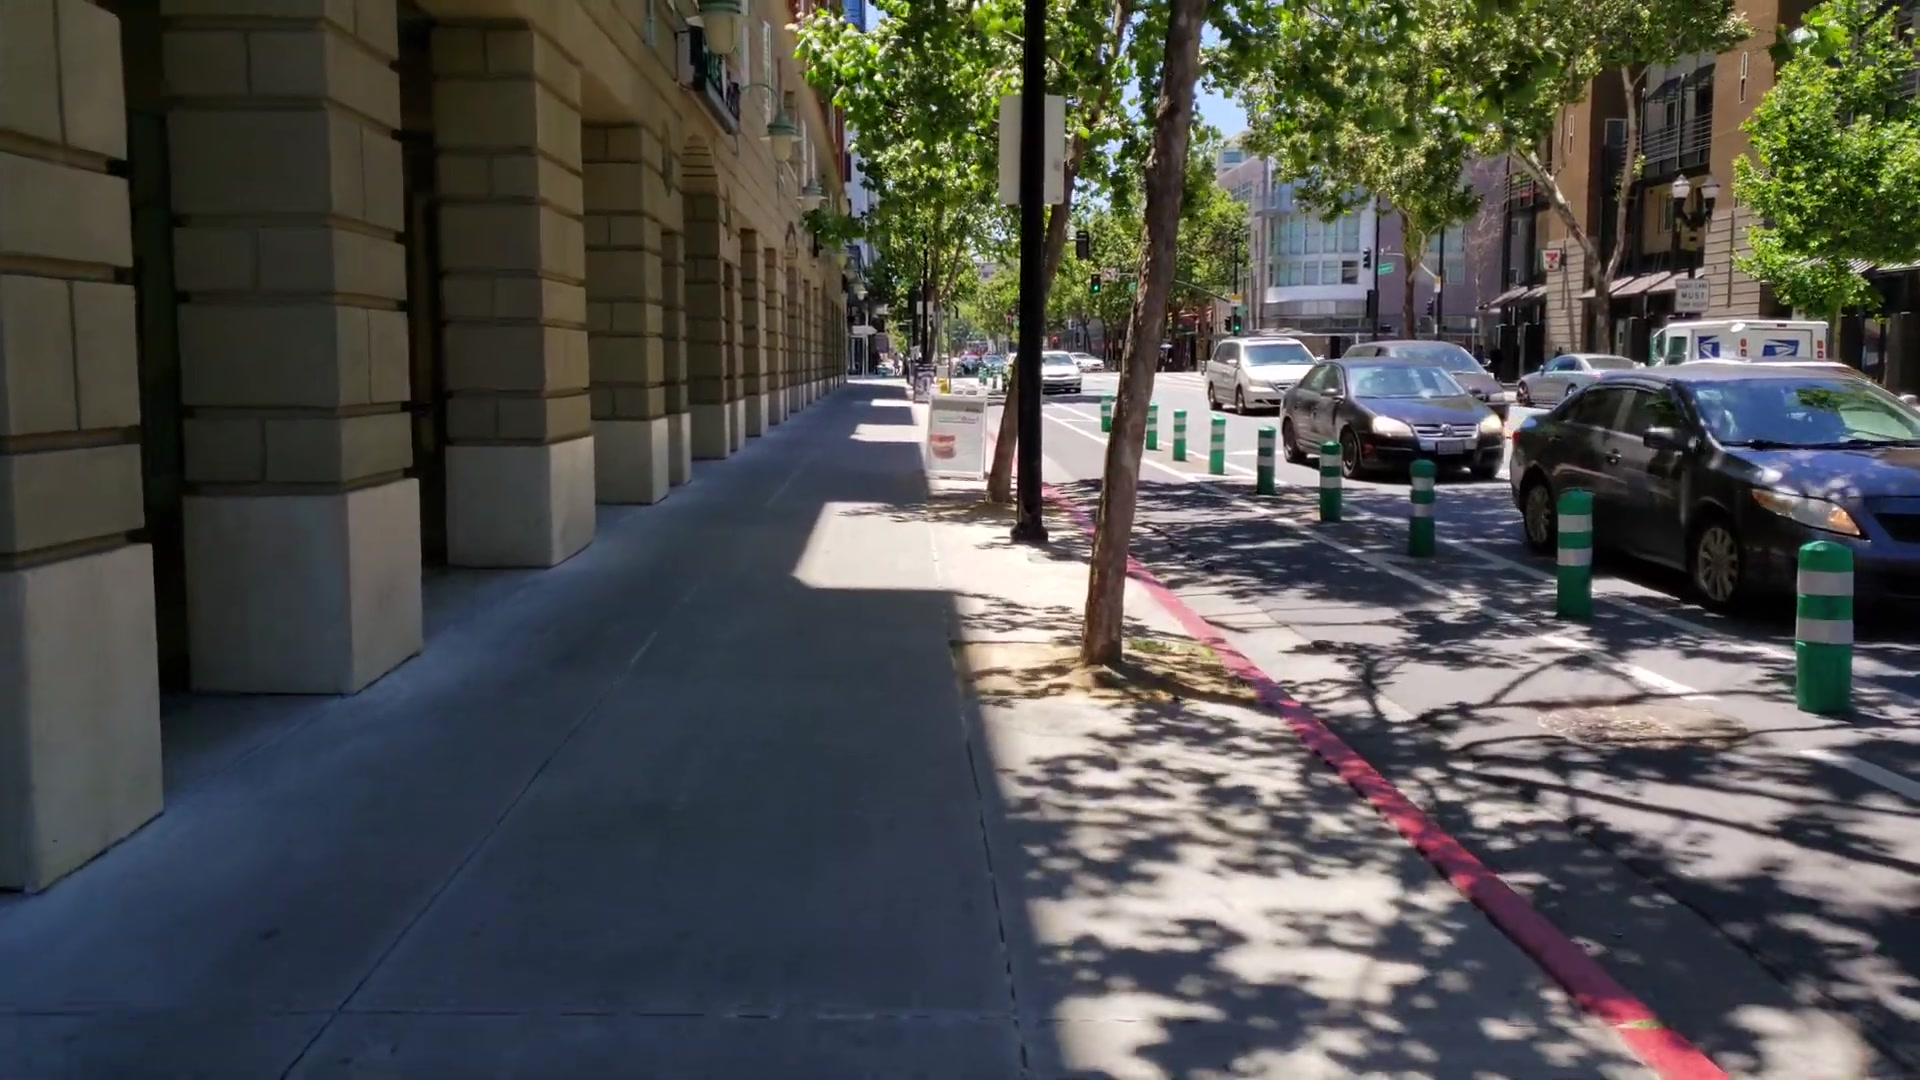vehicle: (1511, 365, 1920, 618), (1279, 357, 1505, 483), (1209, 336, 1313, 411)
